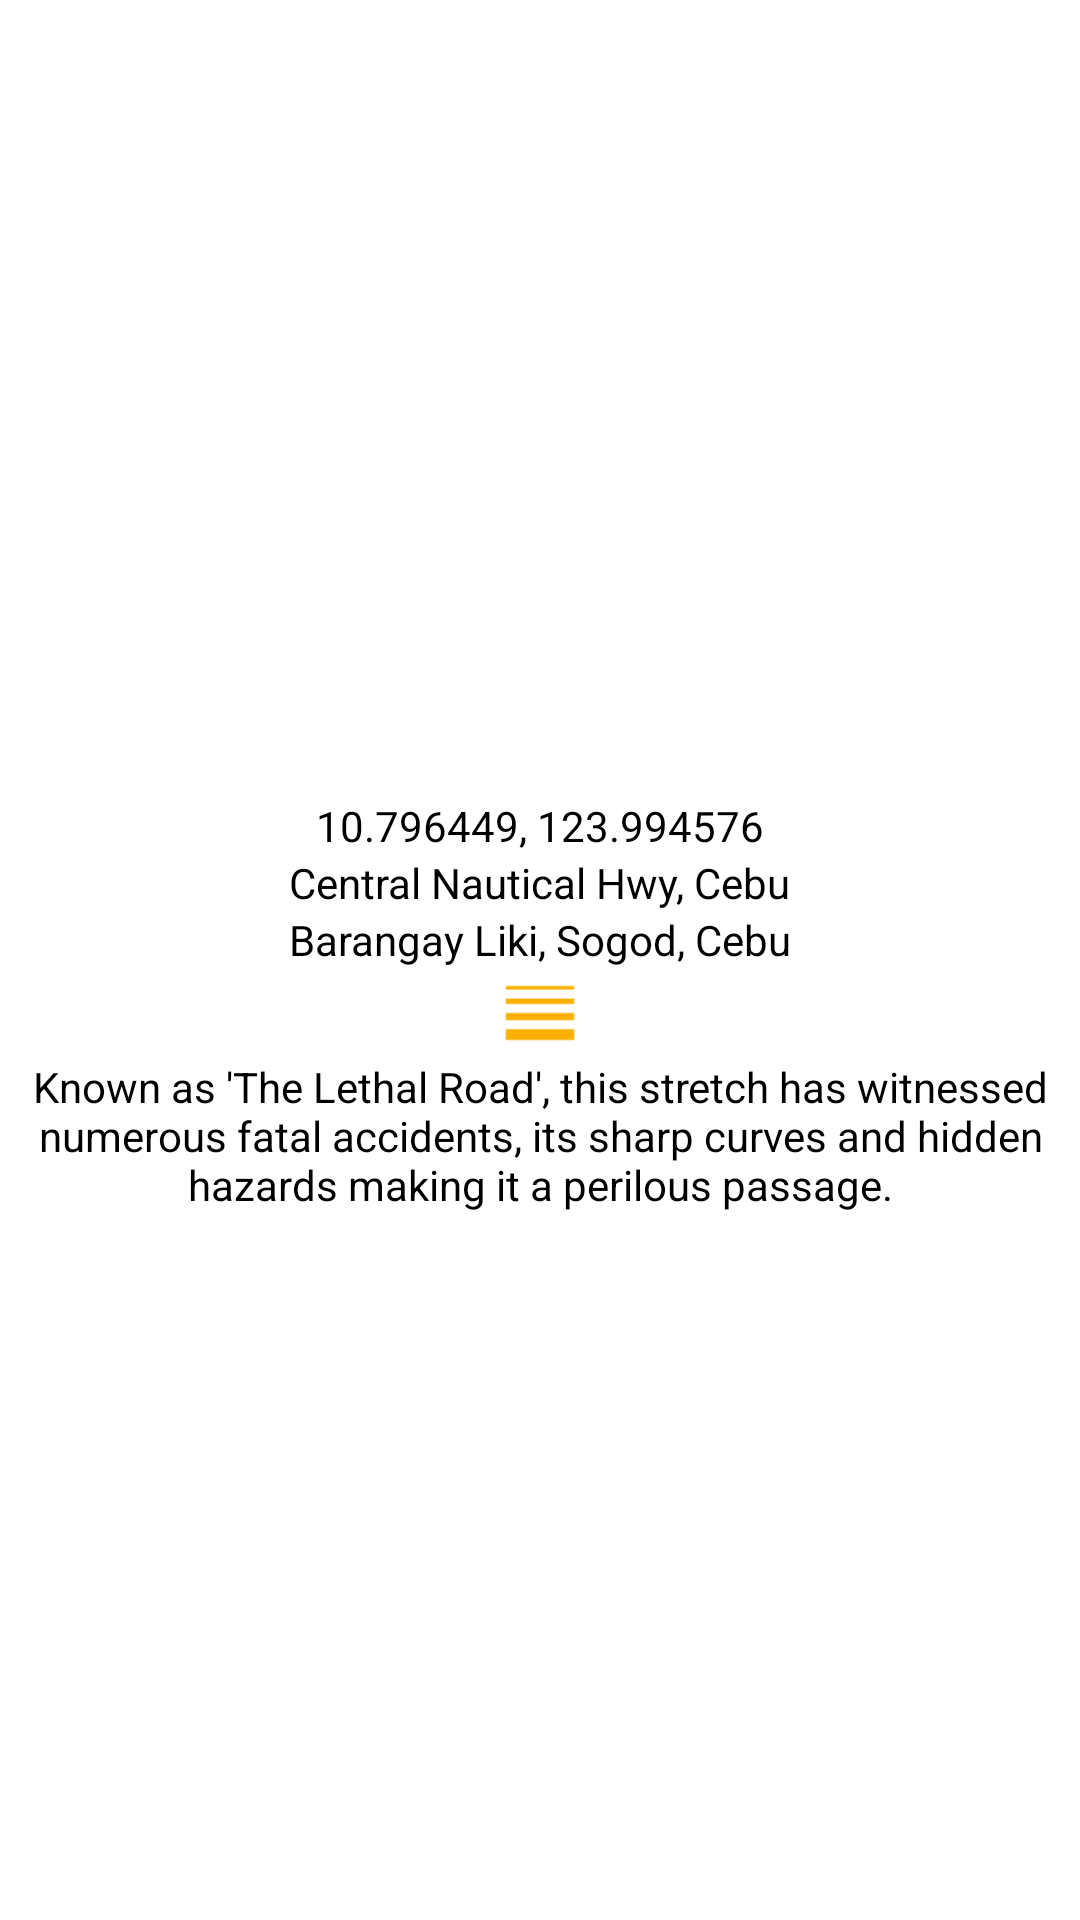

Icons on this 1080 x 1920 Android screen, each with the point to tap as (x,y):
line: (540,1013)
